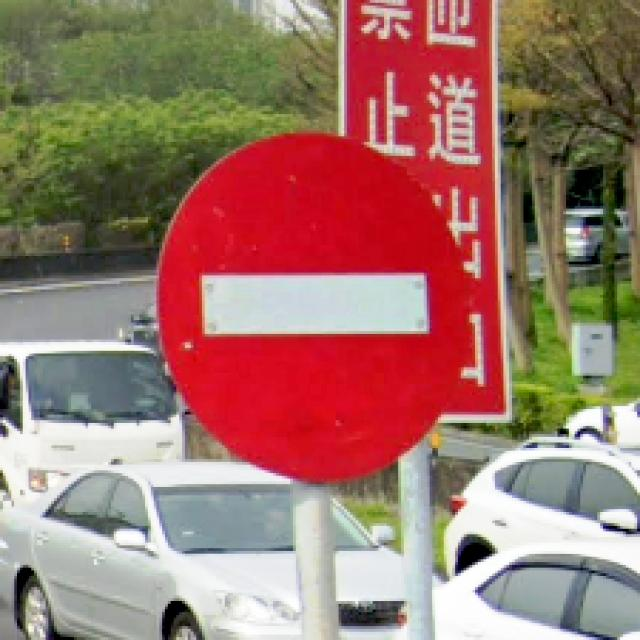noentry: (152, 129, 484, 485)
